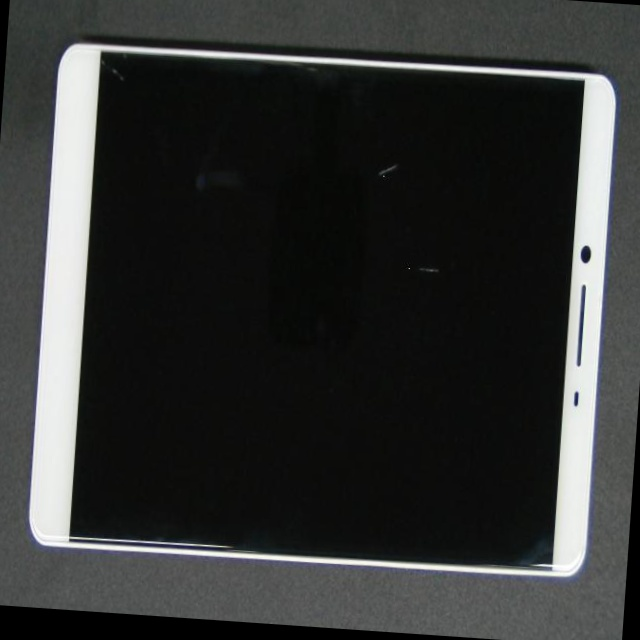scratch: (193, 127, 640, 457), (153, 69, 567, 292)
